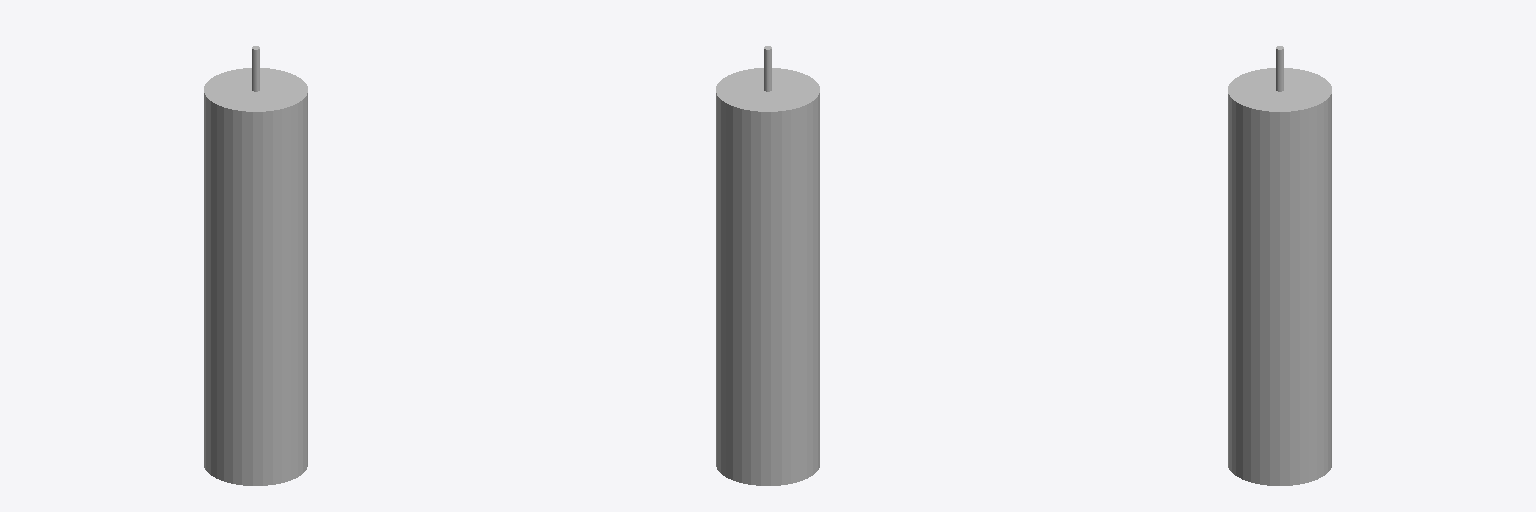
Rendered from Candle.obj.
3 views of the same model, side by side, from view 1: azimuth 30°, elevation 25°; view 2: azimuth 150°, elevation 25°; view 3: azimuth 270°, elevation 25° (orthographic).
Parts seen in each view (by area): view 1: Cylinder.001; view 2: Cylinder.001; view 3: Cylinder.001.
Boxes of the visible parts, x1=… form: Cylinder.001: x1=204, y1=46, x2=307, y2=485; Cylinder.001: x1=716, y1=46, x2=819, y2=485; Cylinder.001: x1=1228, y1=46, x2=1331, y2=485.
Size of the model in its own units: 0.303 by 1.33 by 0.303.